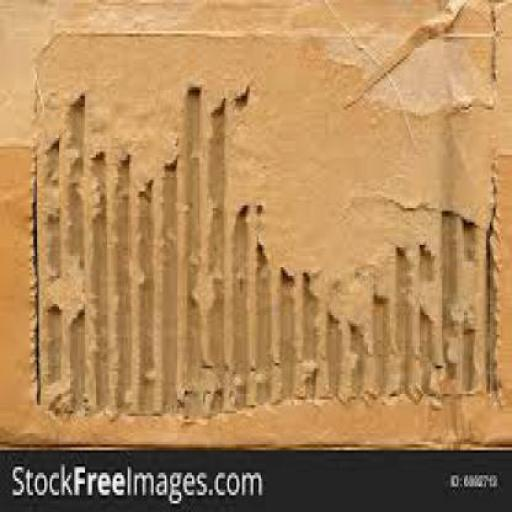cardboard: (0, 0, 511, 450)
